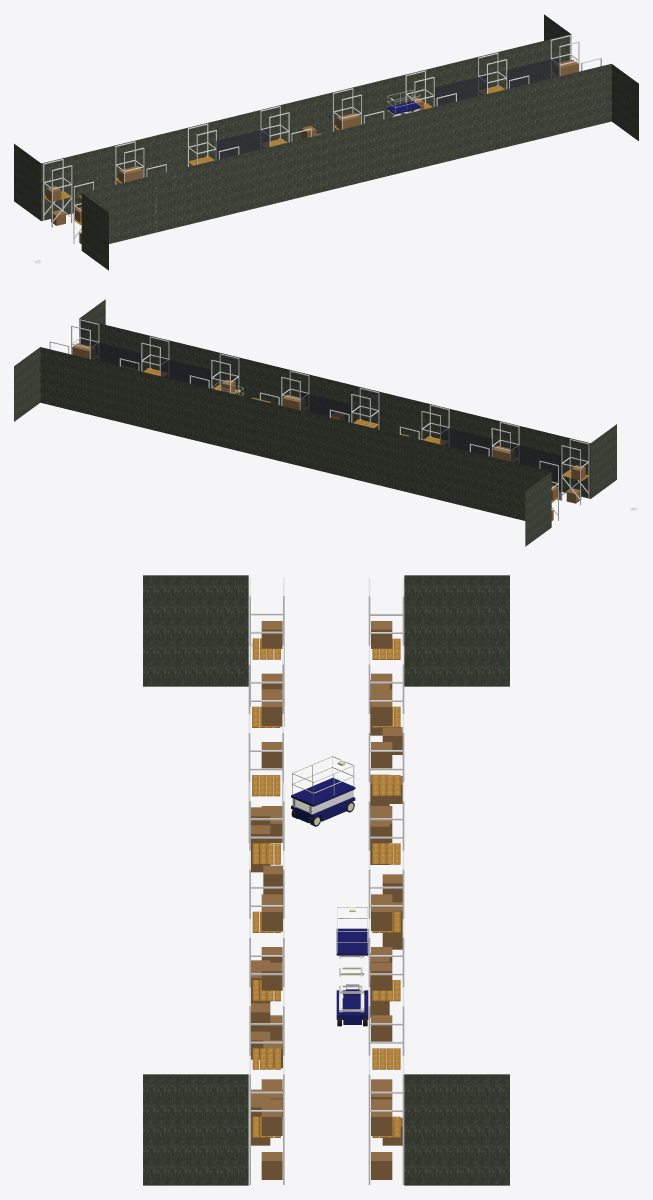
File: fla_warehouse2.dae
The picture shows the model from 3 angles, top to bottom: view 1: azimuth 30°, elevation 25°; view 2: azimuth 150°, elevation 25°; view 3: azimuth 270°, elevation 25°; orthographic projection. The views are drawn at different scales.
Parts seen in each view (by area): view 1: group_57, group_58, group_54, group_52, group_56, group_65, group_59, group_63, group_67, group_55, group_68, group_69 (+10 smaller); view 2: group_69, group_67, group_68, group_63, group_66, group_65, group_62, group_59, group_55, group_57, group_52, group_54 (+12 smaller); view 3: group_51, group_53, group_61, group_64, group_83 (×2), Component_17, group_81.
Boxes of the visible parts, x1=… form: group_57: x1=517, y1=64, x2=611, y2=144; group_58: x1=226, y1=134, x2=321, y2=215; group_54: x1=154, y1=152, x2=248, y2=232; group_52: x1=302, y1=117, x2=393, y2=192; group_56: x1=444, y1=87, x2=516, y2=162; group_65: x1=41, y1=140, x2=135, y2=220; group_59: x1=82, y1=170, x2=176, y2=243; group_63: x1=186, y1=105, x2=280, y2=162; group_67: x1=404, y1=52, x2=498, y2=114; group_55: x1=394, y1=104, x2=465, y2=174; group_68: x1=477, y1=34, x2=571, y2=89; group_69: x1=281, y1=87, x2=353, y2=142; group_69: x1=250, y1=398, x2=341, y2=475; group_67: x1=110, y1=364, x2=201, y2=441; group_68: x1=40, y1=347, x2=131, y2=424; group_63: x1=320, y1=416, x2=411, y2=493; group_66: x1=390, y1=432, x2=481, y2=510; group_65: x1=460, y1=449, x2=551, y2=520; group_62: x1=180, y1=381, x2=250, y2=453; group_59: x1=499, y1=421, x2=590, y2=498; group_55: x1=219, y1=353, x2=310, y2=411; group_57: x1=79, y1=318, x2=170, y2=376; group_52: x1=289, y1=372, x2=380, y2=429; group_54: x1=429, y1=404, x2=520, y2=463; group_51: x1=143, y1=1074, x2=248, y2=1185; group_53: x1=143, y1=575, x2=248, y2=686; group_61: x1=404, y1=575, x2=509, y2=686; group_64: x1=404, y1=1074, x2=509, y2=1185; group_83 (×2): x1=291, y1=778, x2=368, y2=955; Component_17: x1=368, y1=1055, x2=404, y2=1184; group_81: x1=336, y1=990, x2=368, y2=1024.
Size of the model in its own units: 2200 by 626 by 210.
Materials: 15 (9 with a texture image).
